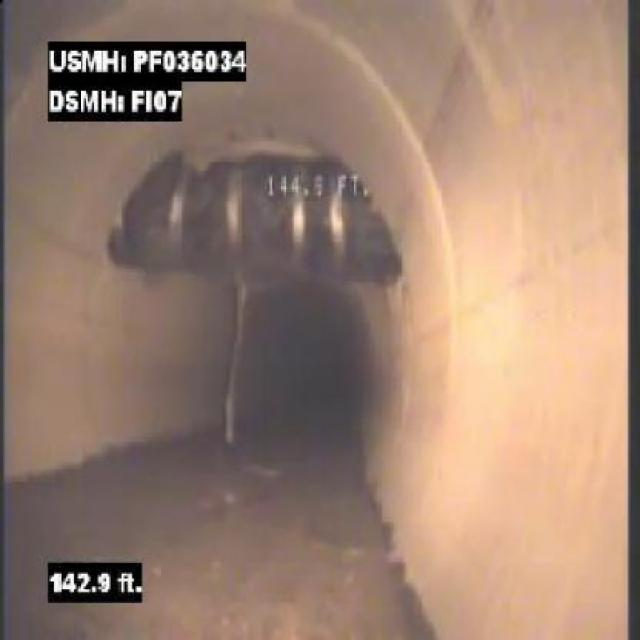Utility intrusion: (108, 138, 412, 294)
